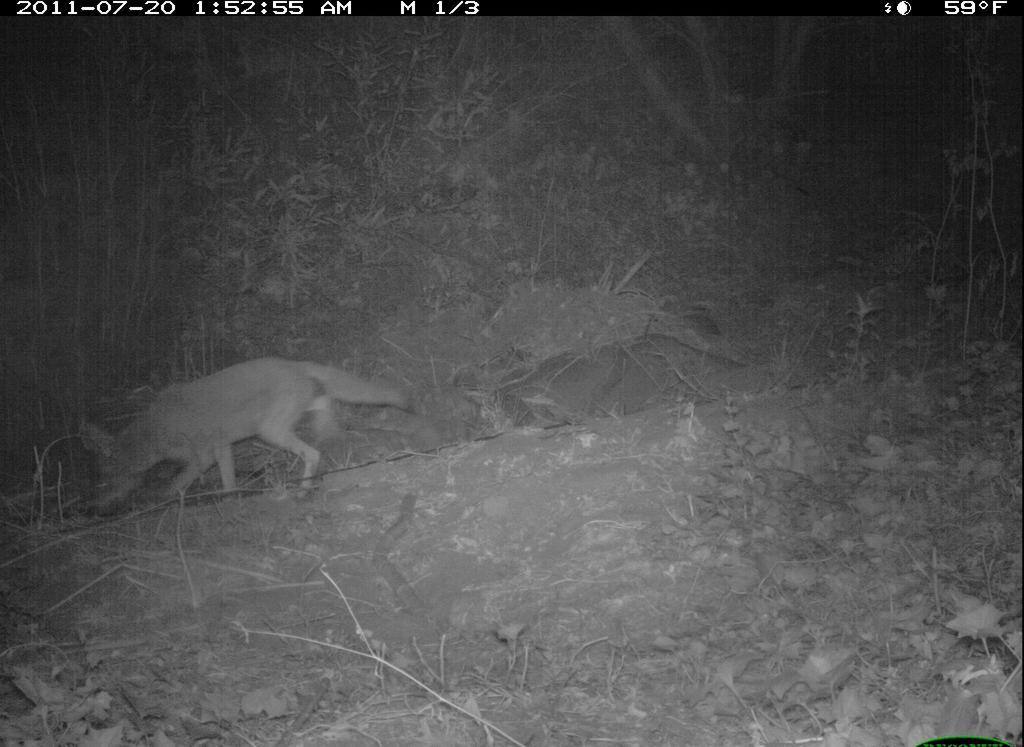coyote: (63, 345, 418, 520)
